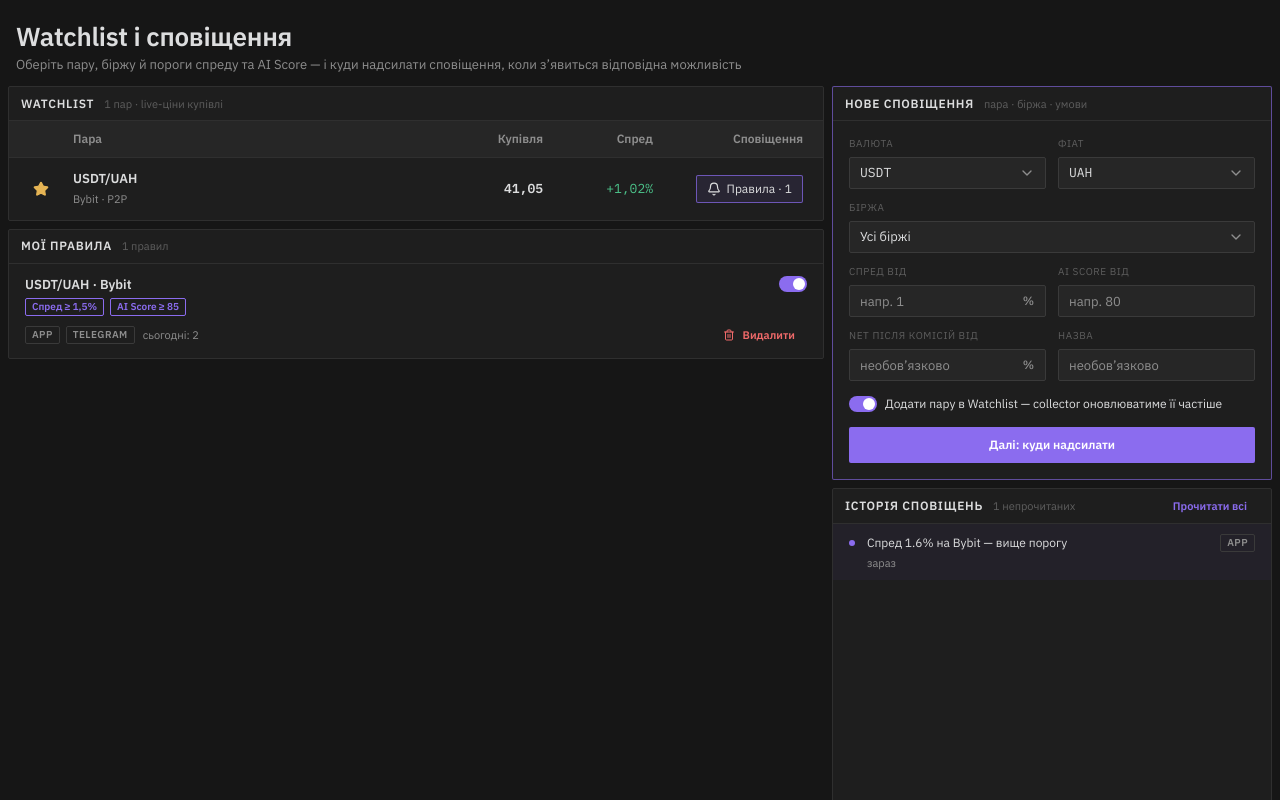
Scenario: сторінка «Watchlist і сповіщення» › Watchlist з live-ціною: вибір пари фільтрує правила й підставляє її у форму
The image size is (1280, 800).
Later steps or results of the test are not shown.
Expected: the text "Bybit · P2P" is shown, [73, 192, 127, 206]
Expected: the text "41,05" is shown, [433, 157, 563, 220]
What coordinates should you click on to do the following:
click the text "USDT/UAH"
I would click on:
 (89, 178)
Its box is [9, 157, 823, 220].
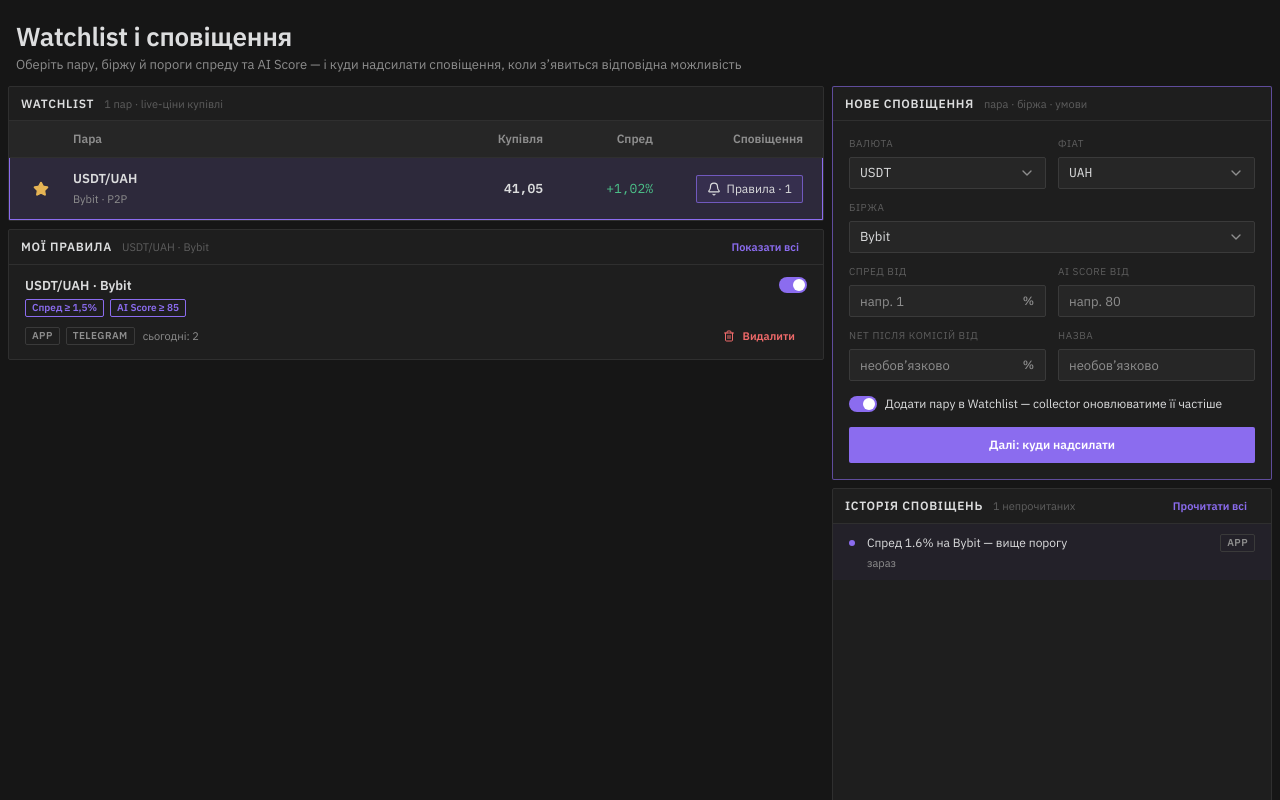
Expected: the text "USDT/UAH · Bybit" is shown 2 times, [122, 240, 209, 254]; [25, 276, 132, 294]
Expected: the button "Показати всі" is shown, [719, 236, 811, 258]
Expected: the dropdown named "Біржа" reads "Bybit", [849, 221, 1255, 253]
